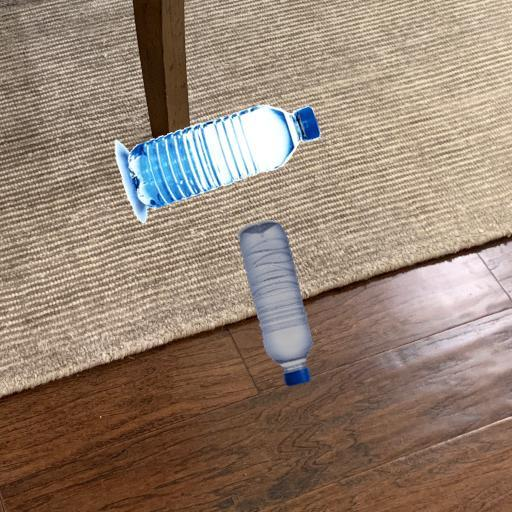bottle: (87, 0, 322, 78), (223, 298, 331, 308)
